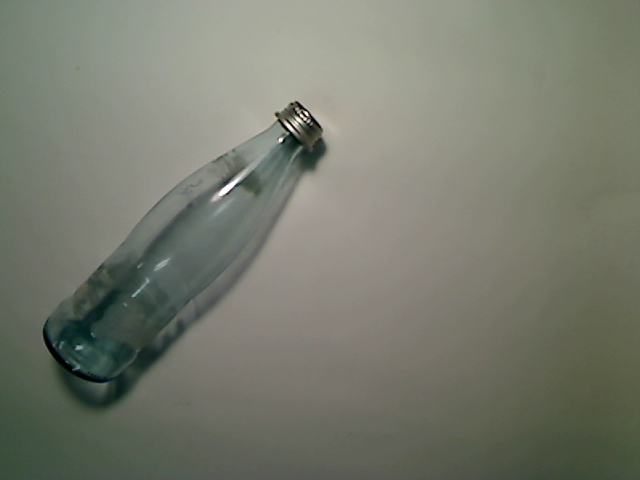bottle: (40, 98, 324, 385)
